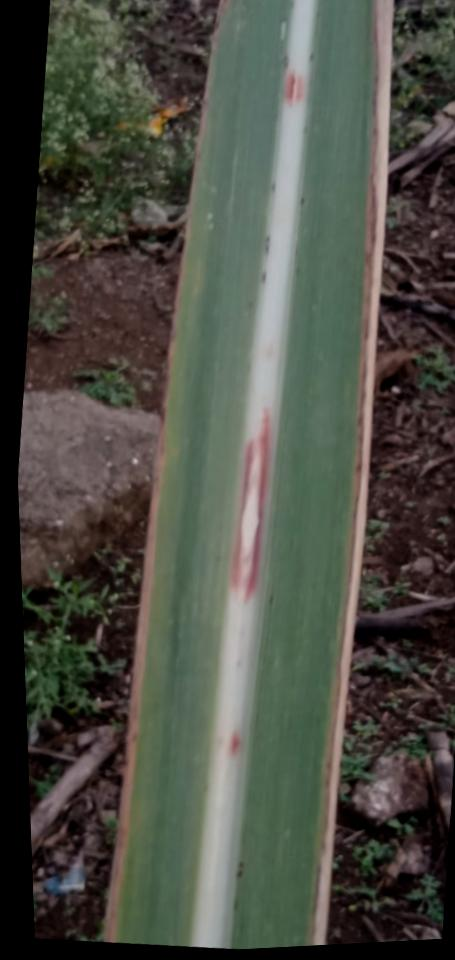RedRot: (231, 410, 270, 603), (284, 74, 303, 104), (227, 730, 239, 755)
